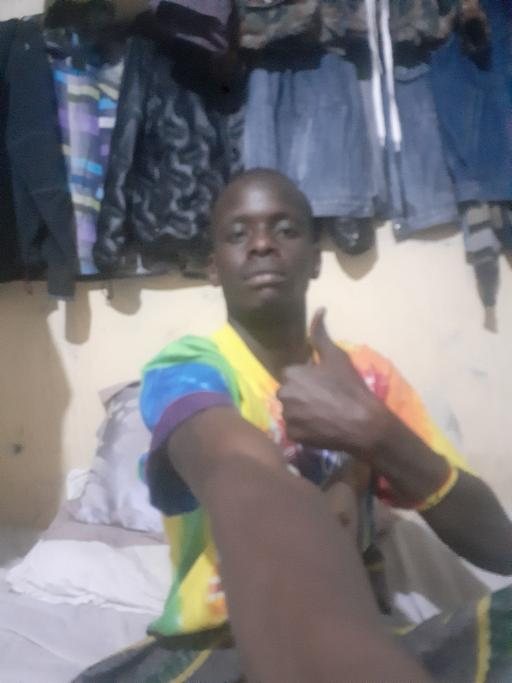like: (273, 303, 376, 454)
